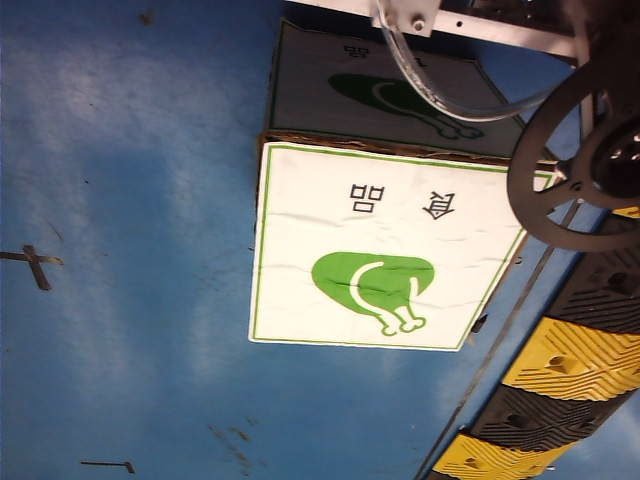Cube_food: (305, 176, 470, 343)
